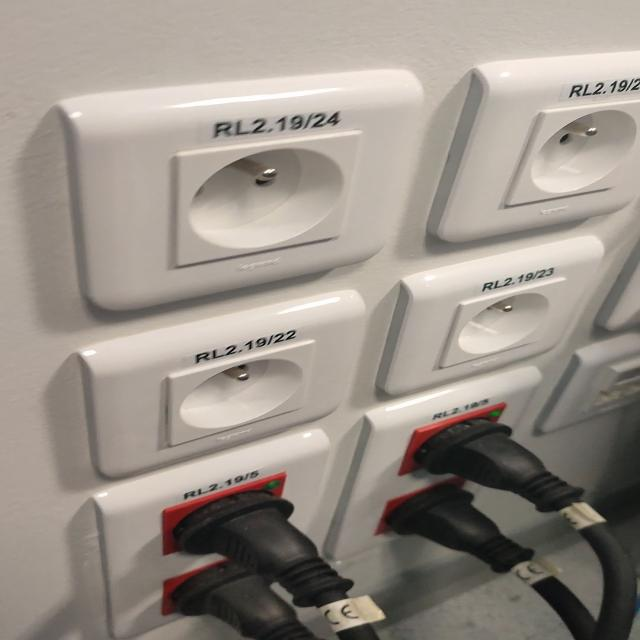house plug: (177, 132, 360, 266), (170, 339, 314, 447), (504, 100, 640, 206), (439, 280, 563, 367)
